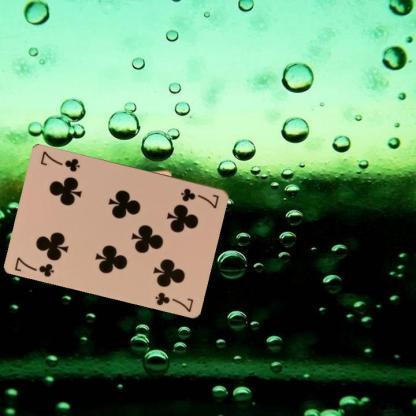7c: (178, 185, 221, 210), (12, 254, 56, 278)
